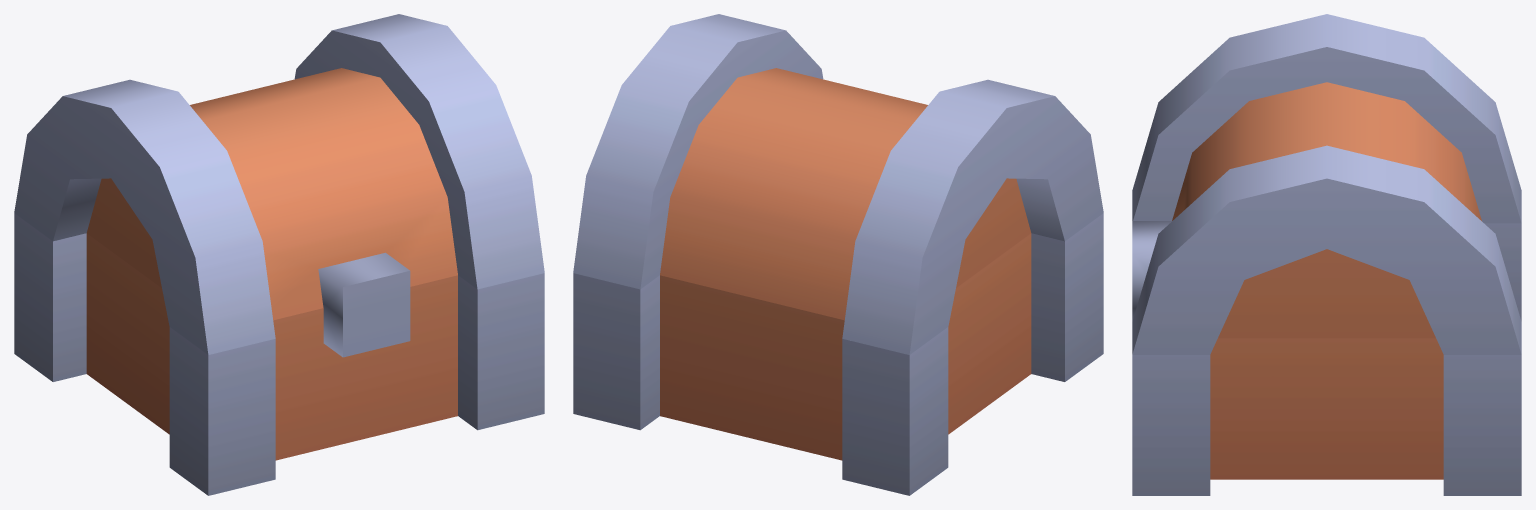
File: Chest.glb
3 renders of one model, left to right at view 1: azimuth 30°, elevation 25°; view 2: azimuth 150°, elevation 25°; view 3: azimuth 270°, elevation 25°, orthographic.
Visible parts, largest first — view 1: lid, chest; view 2: lid, chest; view 3: lid, chest.
Boxes of the visible parts, left/top/right/bottom form: lid: left=14, top=14, right=544, bottom=357; chest: left=14, top=213, right=544, bottom=495; lid: left=573, top=14, right=1103, bottom=354; chest: left=573, top=213, right=1103, bottom=495; lid: left=1132, top=14, right=1521, bottom=354; chest: left=1132, top=223, right=1521, bottom=495.
Size of the model in its own units: 0.5 by 0.45 by 0.5.
Materials: 1 (1 with a texture image).
